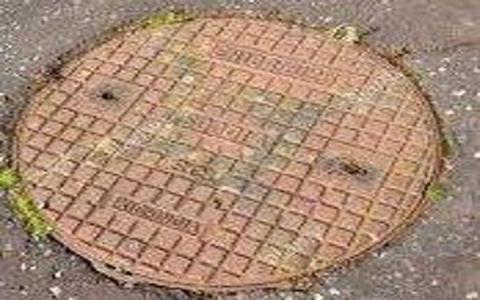proper manhole: (5, 9, 445, 287)
